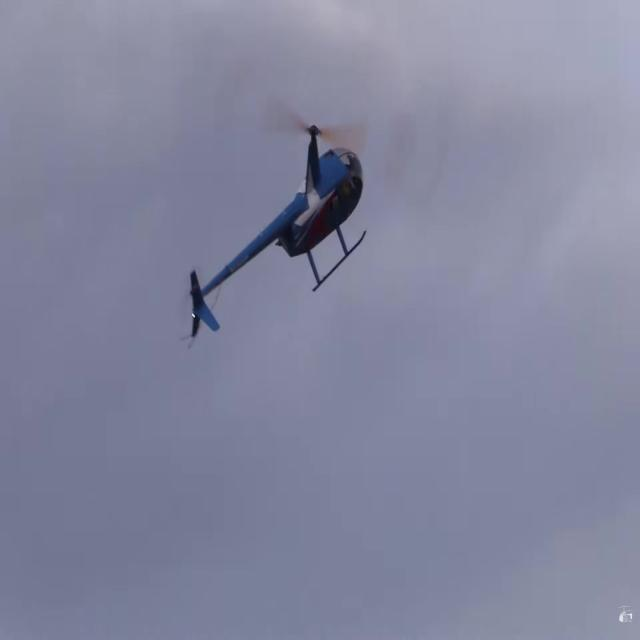CIV_HELO: (188, 120, 367, 350)
